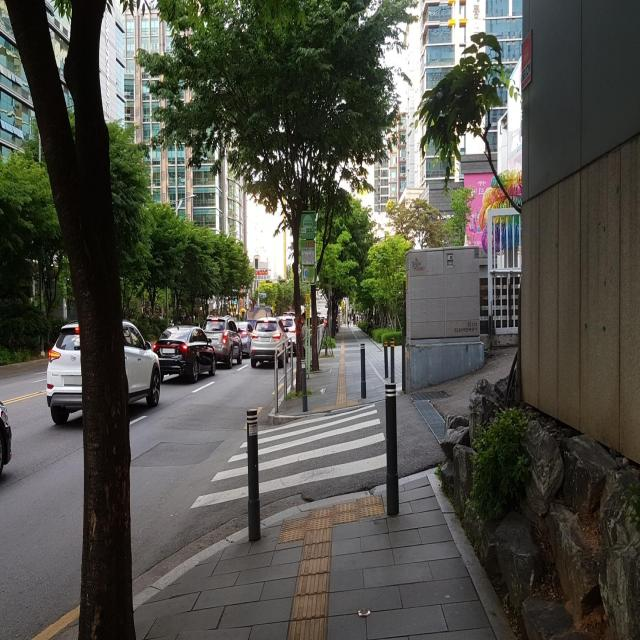횡단보도: (190, 402, 387, 512)
